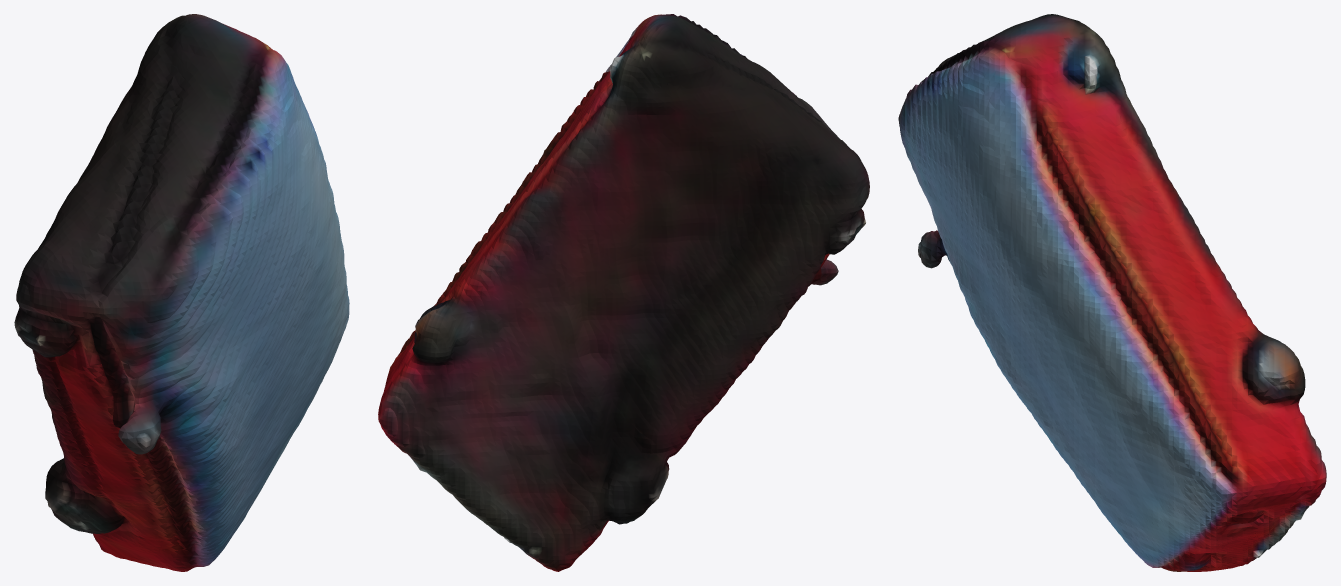
3 renders of one model, left to right at view 1: azimuth 30°, elevation 25°; view 2: azimuth 150°, elevation 25°; view 3: azimuth 270°, elevation 25°, orthographic. The views are drawn at different scales.
Bounding box in the file's own units: 0.5959 × 0.7653 × 0.5538.
